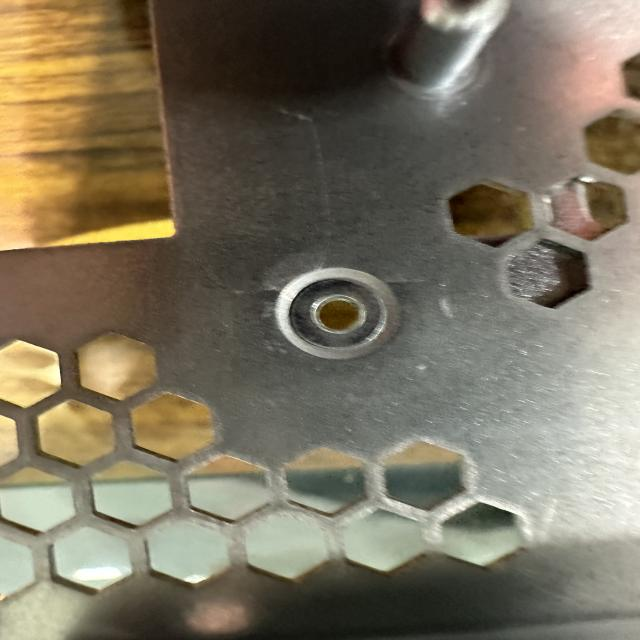Missing screw: (266, 258, 412, 366)
